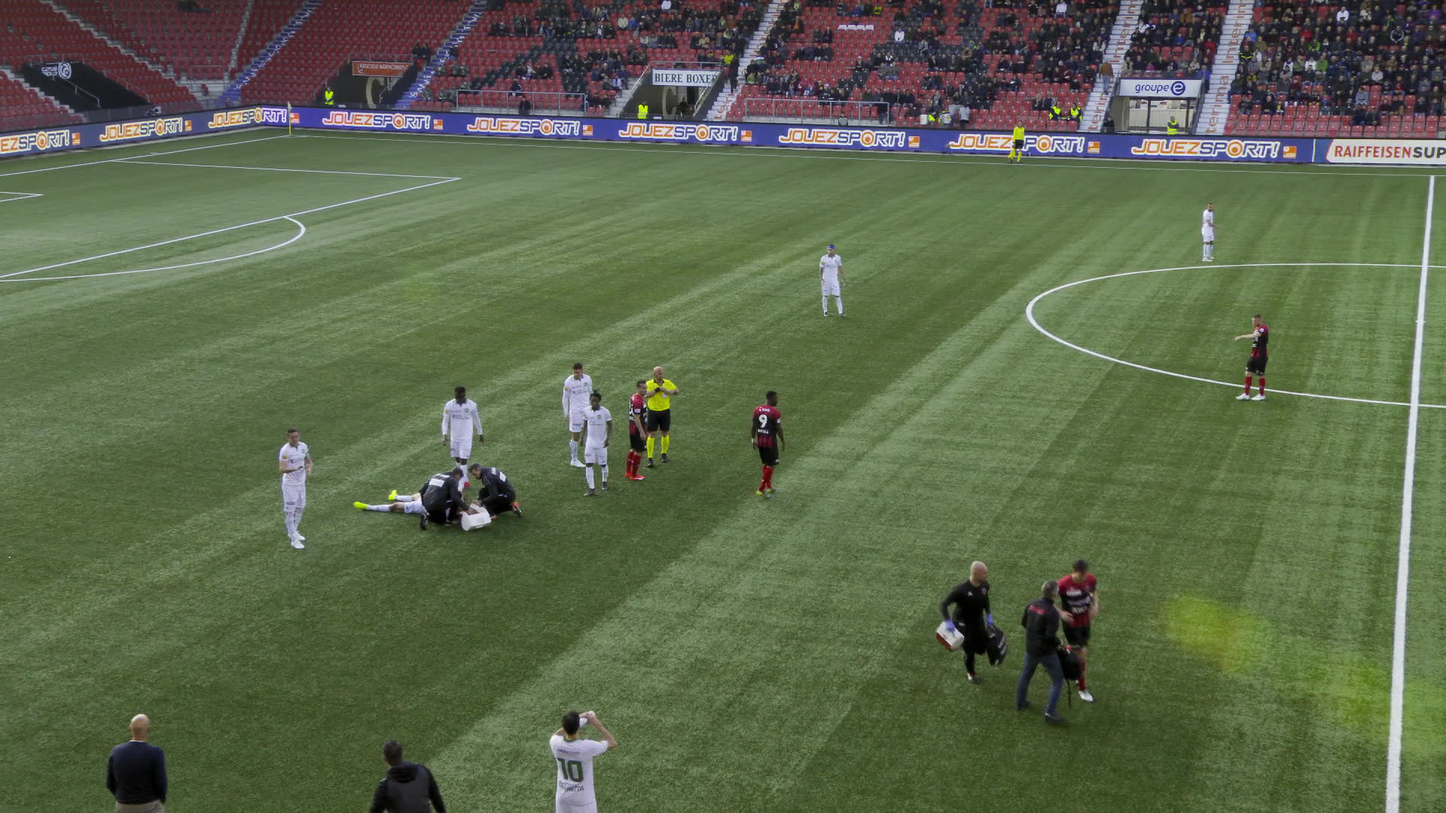ball: (1015, 577, 1066, 723), (938, 558, 989, 683), (419, 467, 472, 529), (468, 462, 523, 518)
player: (552, 711, 618, 812), (1049, 554, 1094, 700), (442, 384, 486, 494), (279, 427, 313, 549), (579, 387, 614, 495), (751, 391, 786, 498), (563, 361, 593, 467), (1234, 313, 1269, 400), (626, 379, 648, 480), (821, 244, 849, 316), (355, 489, 428, 512), (1202, 202, 1218, 261)
referee: (645, 365, 680, 466), (1008, 120, 1025, 163)
